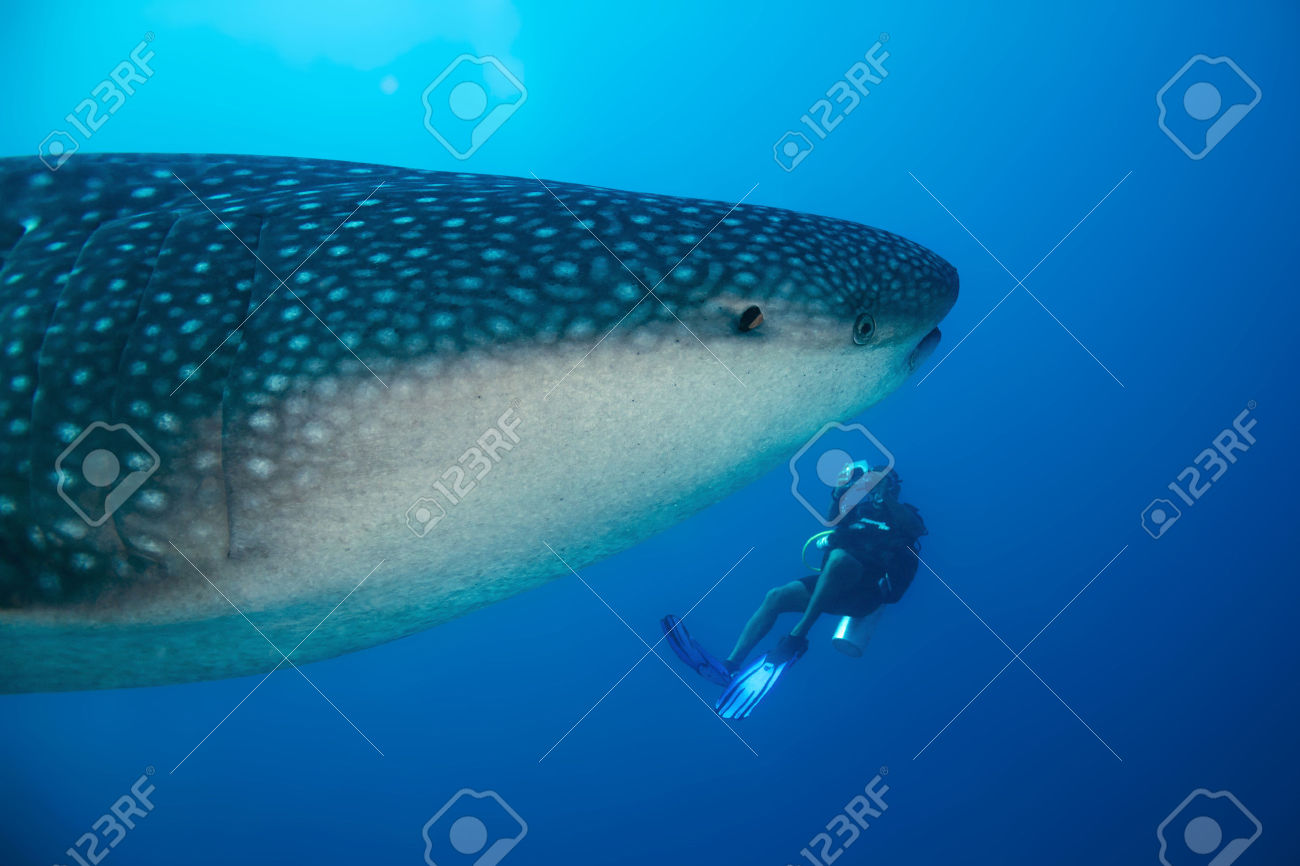Rhincodon_typusw: (1, 92, 992, 712)
